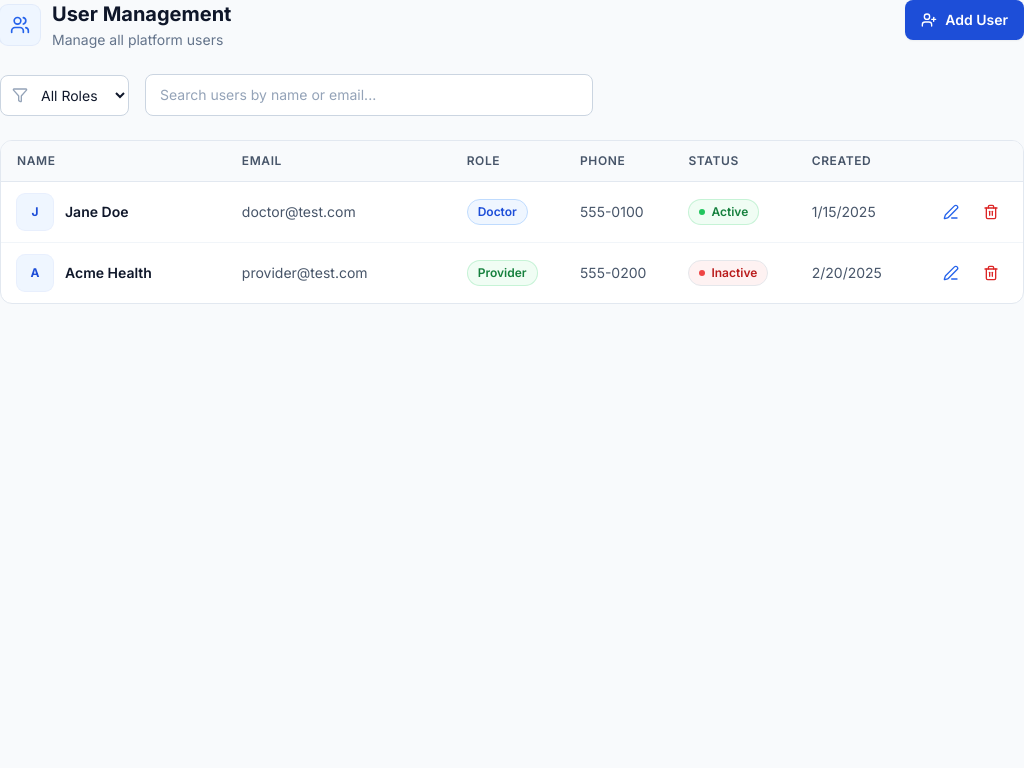
Test: UserManagement › opens the edit modal with pre-filled data
Expected: the text "Jane Doe" is shown, [65,202,128,222]
Click the button named "Edit user" in the row of "Jane Doe" at point(951, 212), box [935,196,967,228]
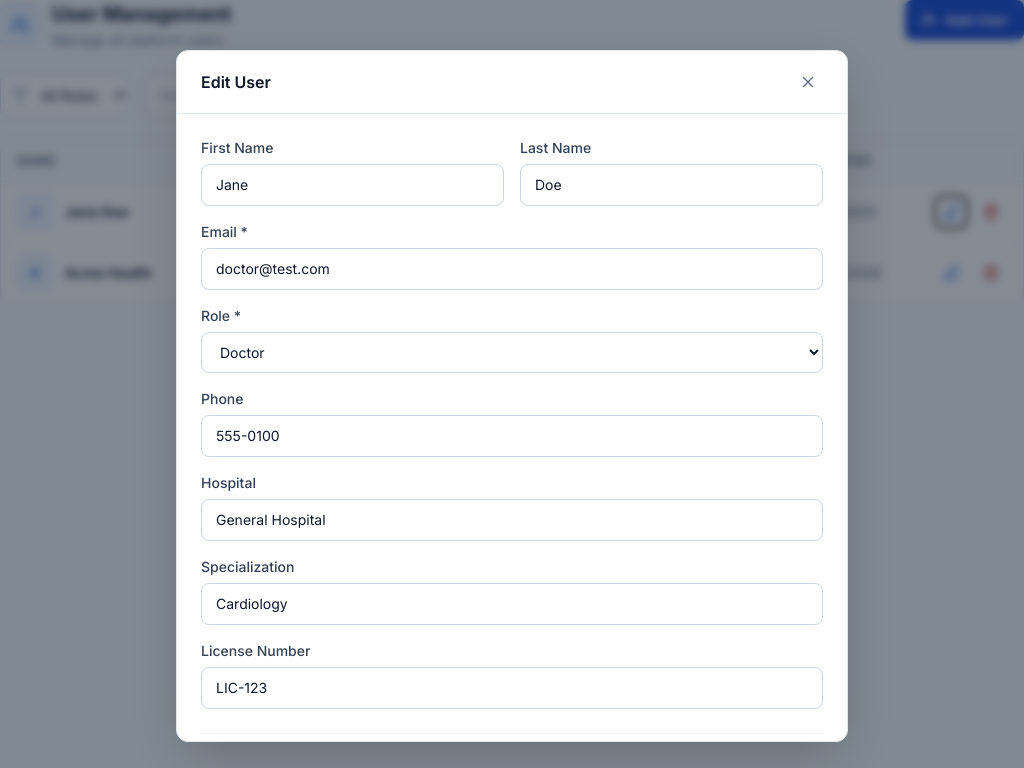
Expected: the heading "Edit User" is shown, [201,70,271,94]
Expected: the field showing "doctor@test.com" below "Email *" is shown, [201,248,823,290]
